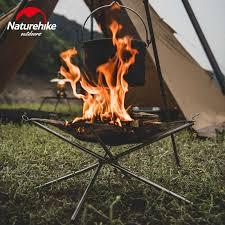Fire: (58, 24, 134, 124)
